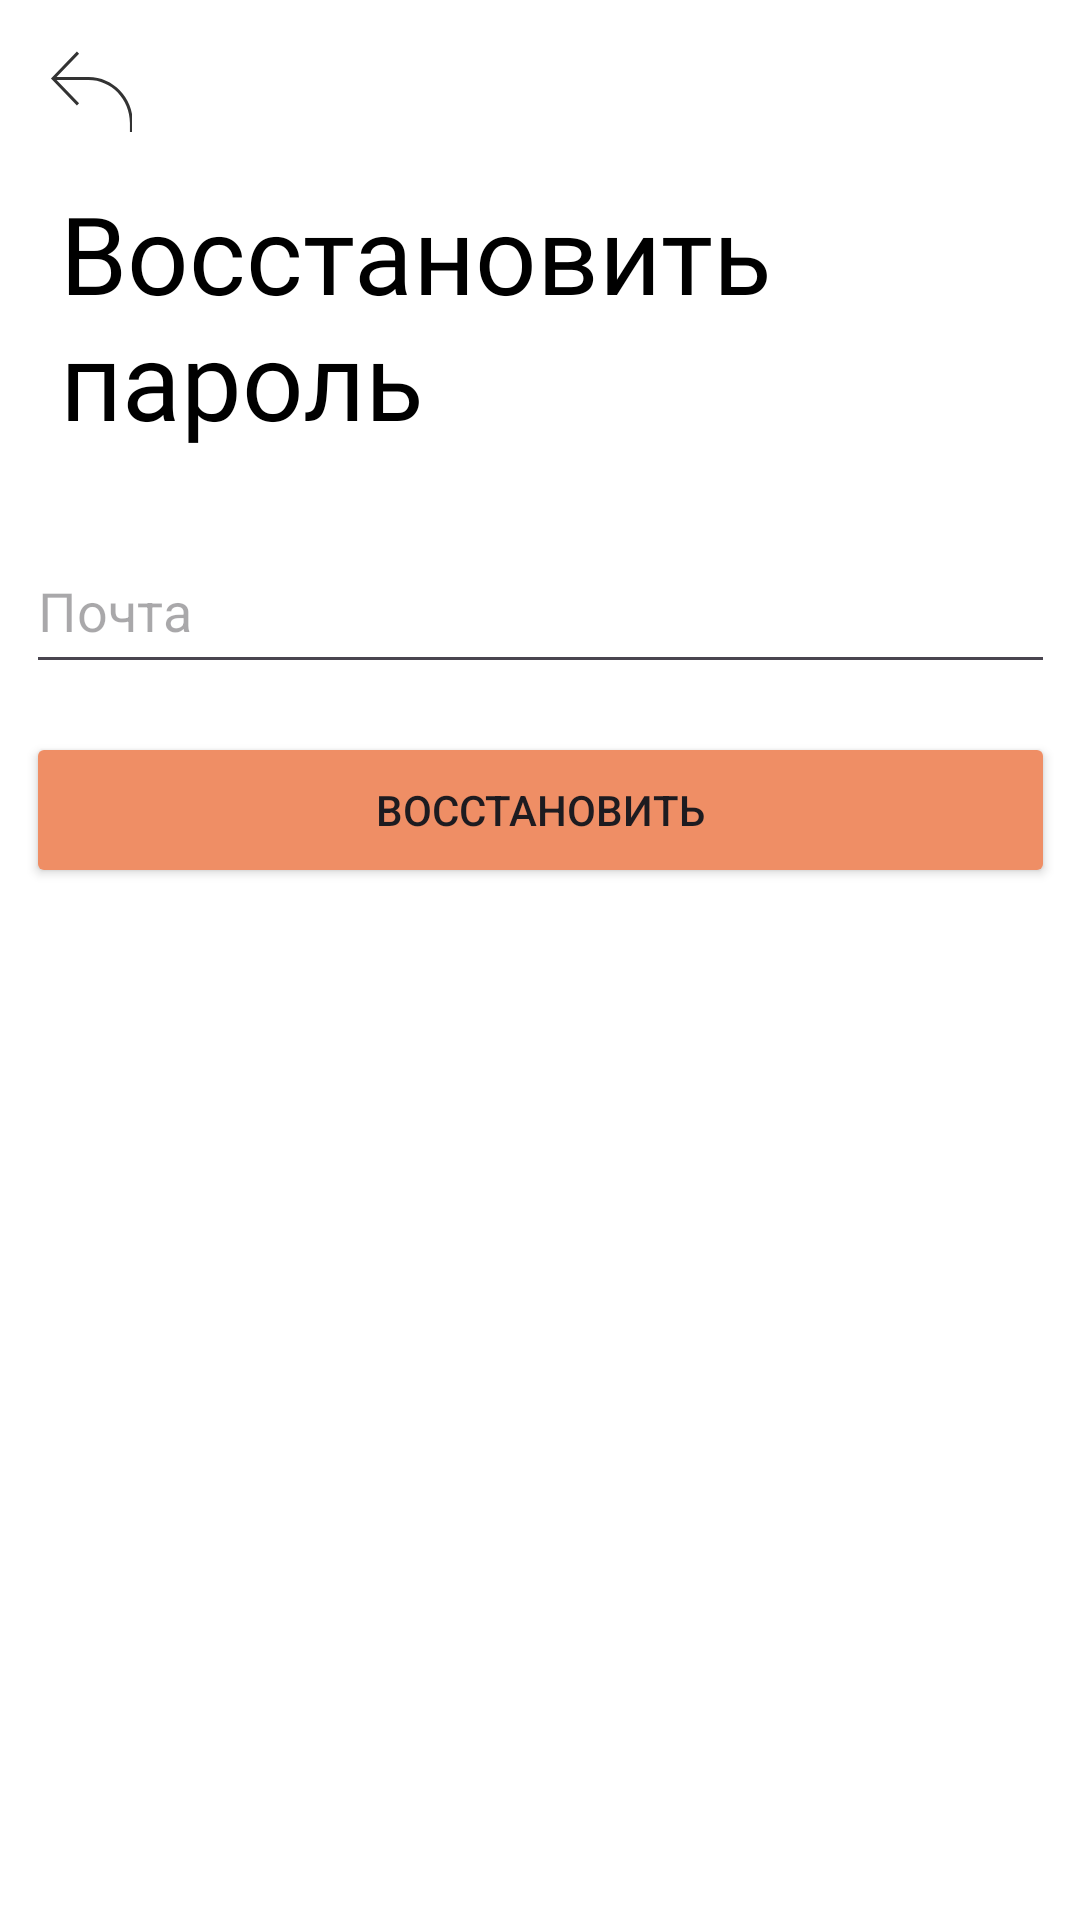

Named icons in this screenshot (1080px×1920px) and their bounding boxes, box(x1, y1, x2, y2):
exit arrow back: box(51, 51, 132, 132)
